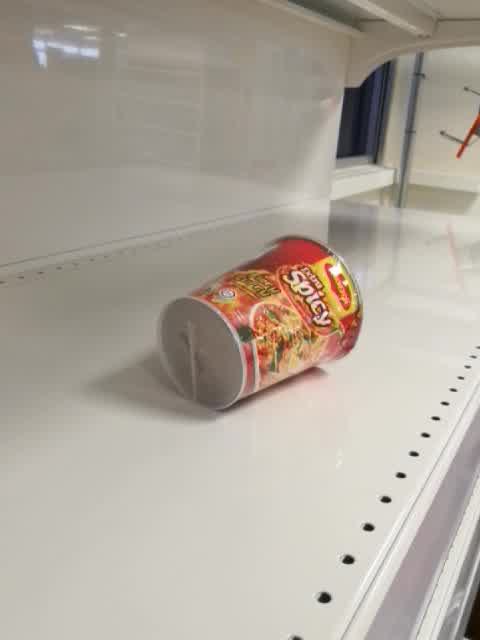maggi: (154, 233, 364, 411)
